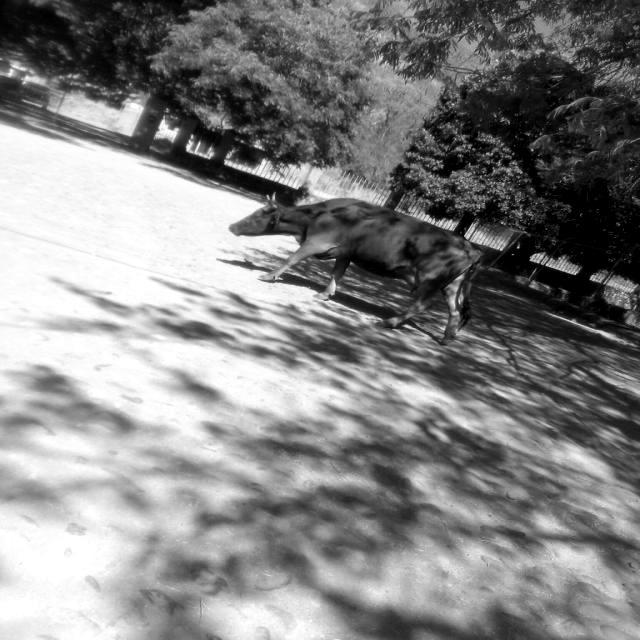COW: (230, 199, 481, 341)
